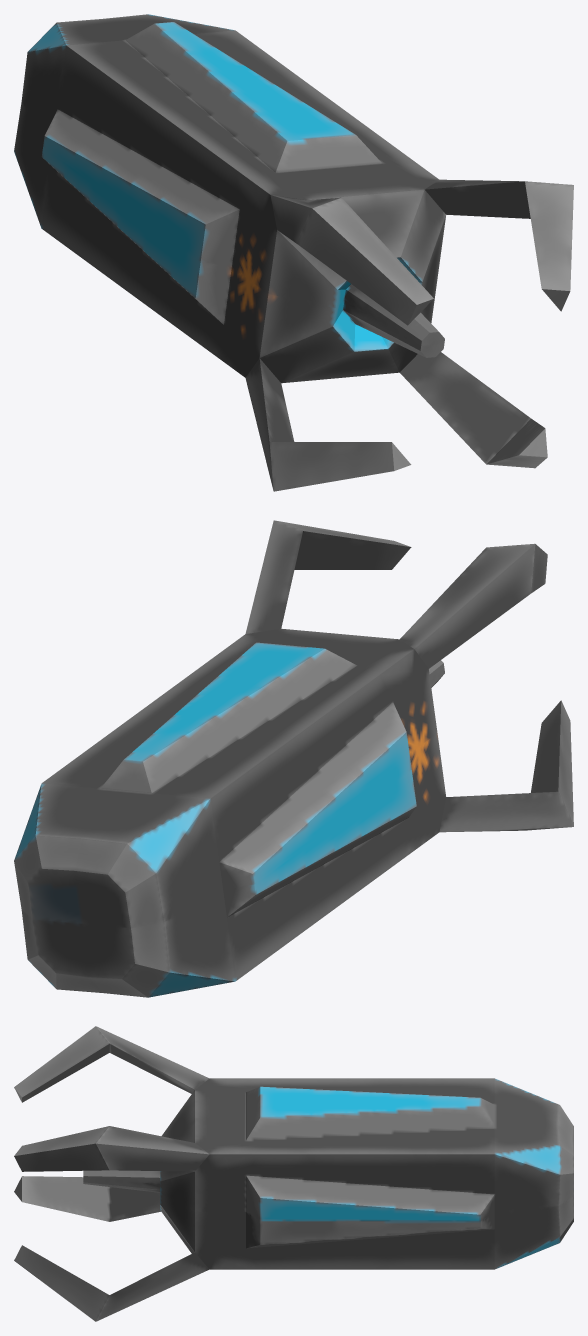
File: gun_module_laser.fbx
3 renders of one model, top to bottom at view 1: azimuth 30°, elevation 25°; view 2: azimuth 150°, elevation 25°; view 3: azimuth 270°, elevation 25°, orthographic. The views are drawn at different scales.
Parts seen in each view (by area): view 1: laser_module; view 2: laser_module; view 3: laser_module.
Part boxes in pixels (x1,y1,x2,y2): laser_module: [14, 14, 573, 491]; laser_module: [14, 520, 573, 997]; laser_module: [14, 1026, 573, 1321].
Size of the model in its own units: 8.81 by 8.81 by 20.34.
